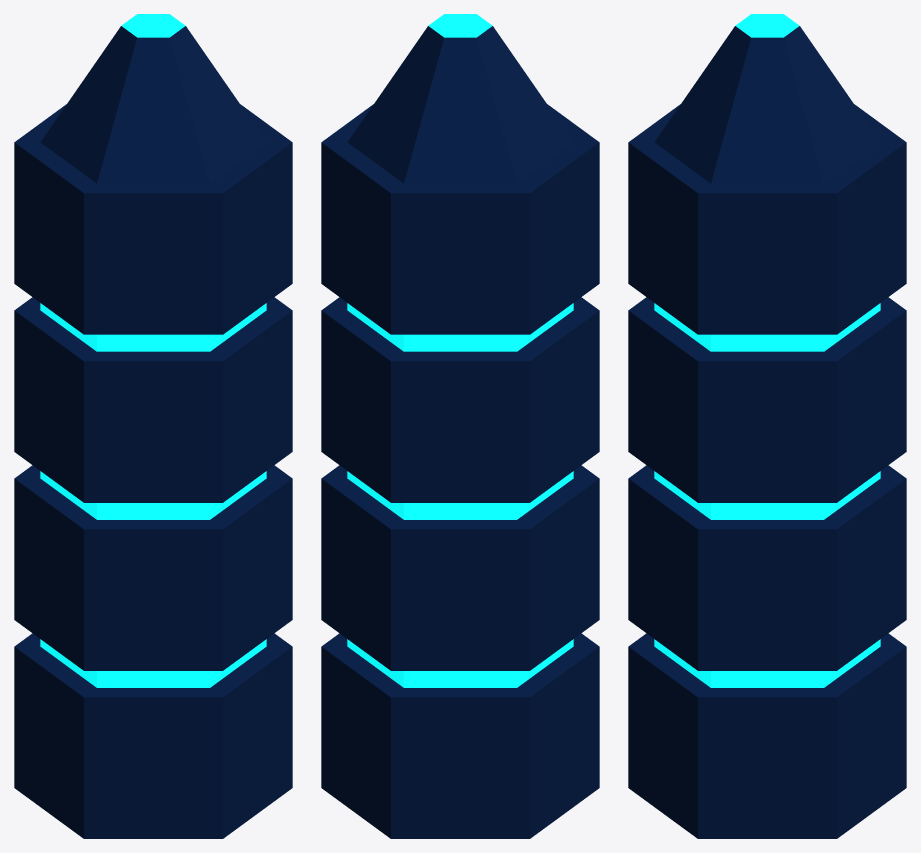
Rendered from bashnya1.fbx.
The picture shows the model from 3 angles, left to right: view 1: azimuth 30°, elevation 25°; view 2: azimuth 150°, elevation 25°; view 3: azimuth 270°, elevation 25°; orthographic projection.
Visible parts, largest first — view 1: Cylinder.001; view 2: Cylinder.001; view 3: Cylinder.001.
Part boxes in pixels (x1,y1,x2,y2): Cylinder.001: (14, 14, 292, 838); Cylinder.001: (321, 14, 599, 838); Cylinder.001: (628, 14, 906, 838).
Bounding box in the file's own units: 12824 × 44768 × 14808.
